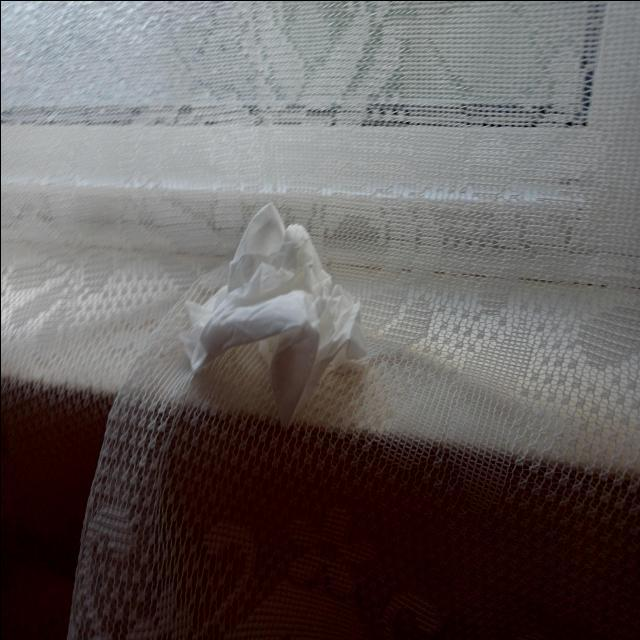Paper: (164, 210, 326, 372)
